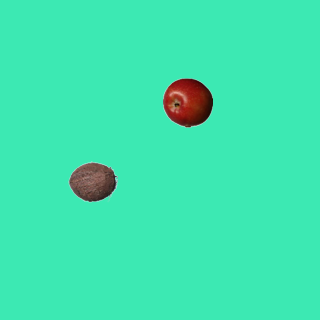Apple Braeburn: (162, 77, 212, 127)
Cocos: (67, 156, 117, 206)
